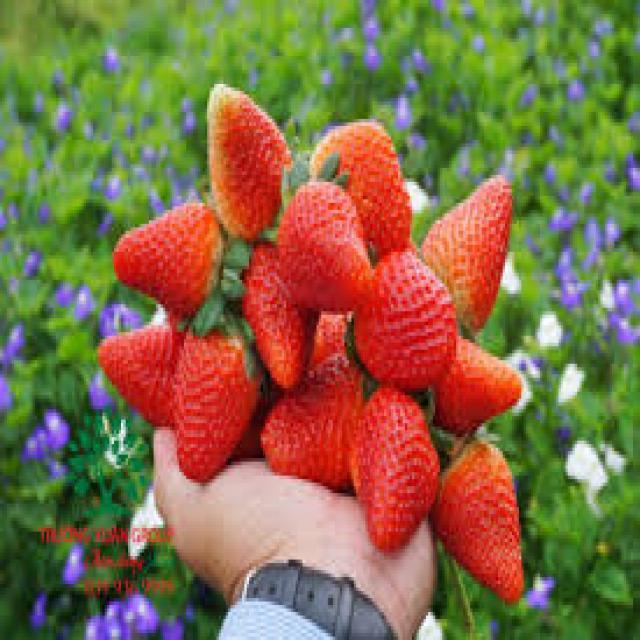Fruta sana: (412, 166, 522, 332), (262, 344, 372, 498), (346, 372, 438, 554), (199, 59, 290, 240), (160, 308, 255, 478), (355, 228, 454, 388), (451, 424, 536, 610), (240, 208, 322, 394), (319, 104, 419, 256), (274, 159, 376, 301), (110, 201, 226, 322), (89, 324, 190, 437), (438, 312, 522, 442)
